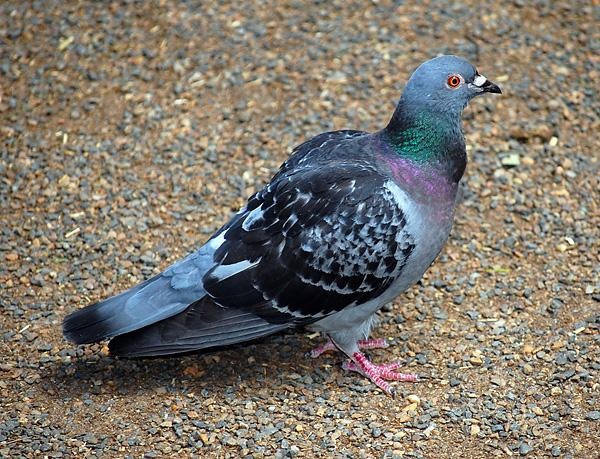Flying Rat: (65, 61, 494, 383)
